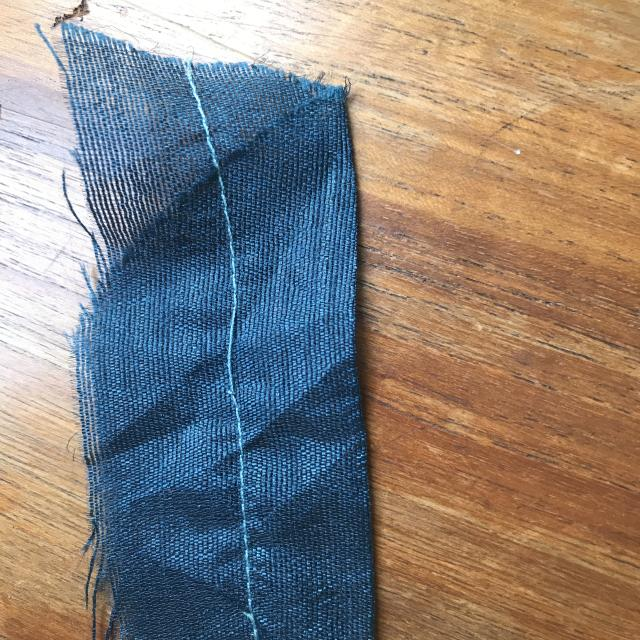skip: (197, 300, 272, 417)
